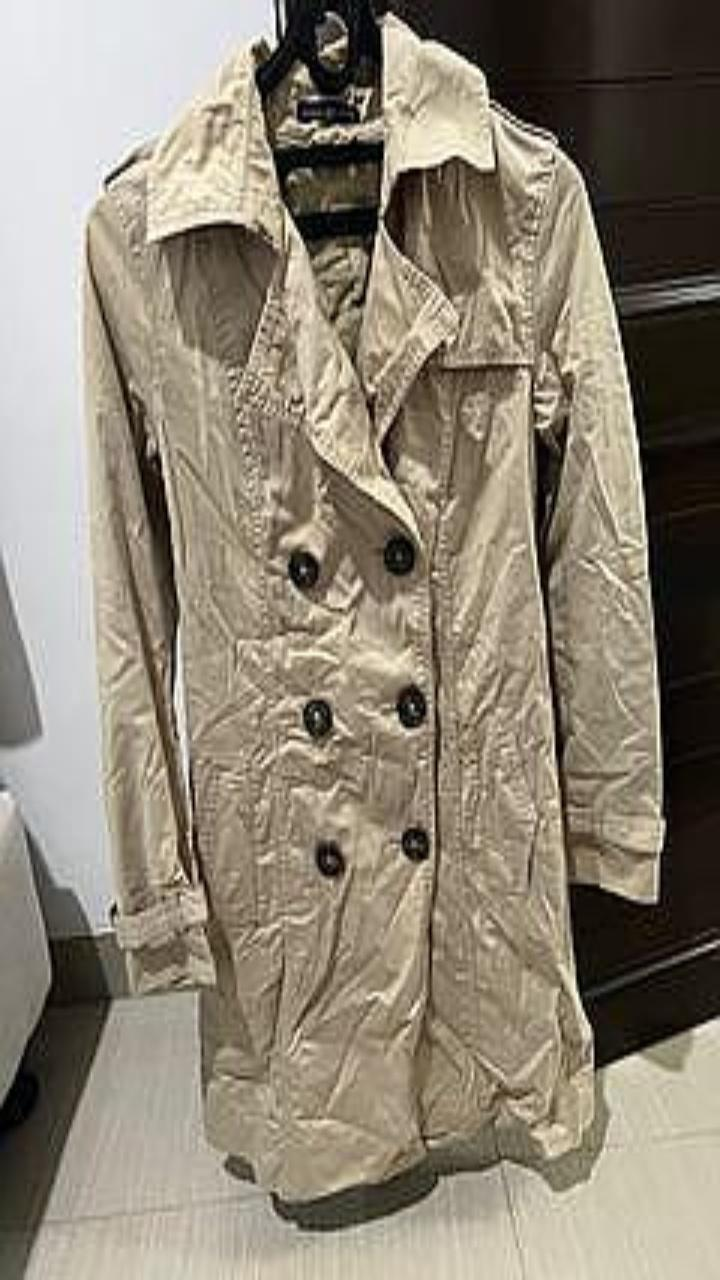Coat: (83, 13, 664, 1200)
